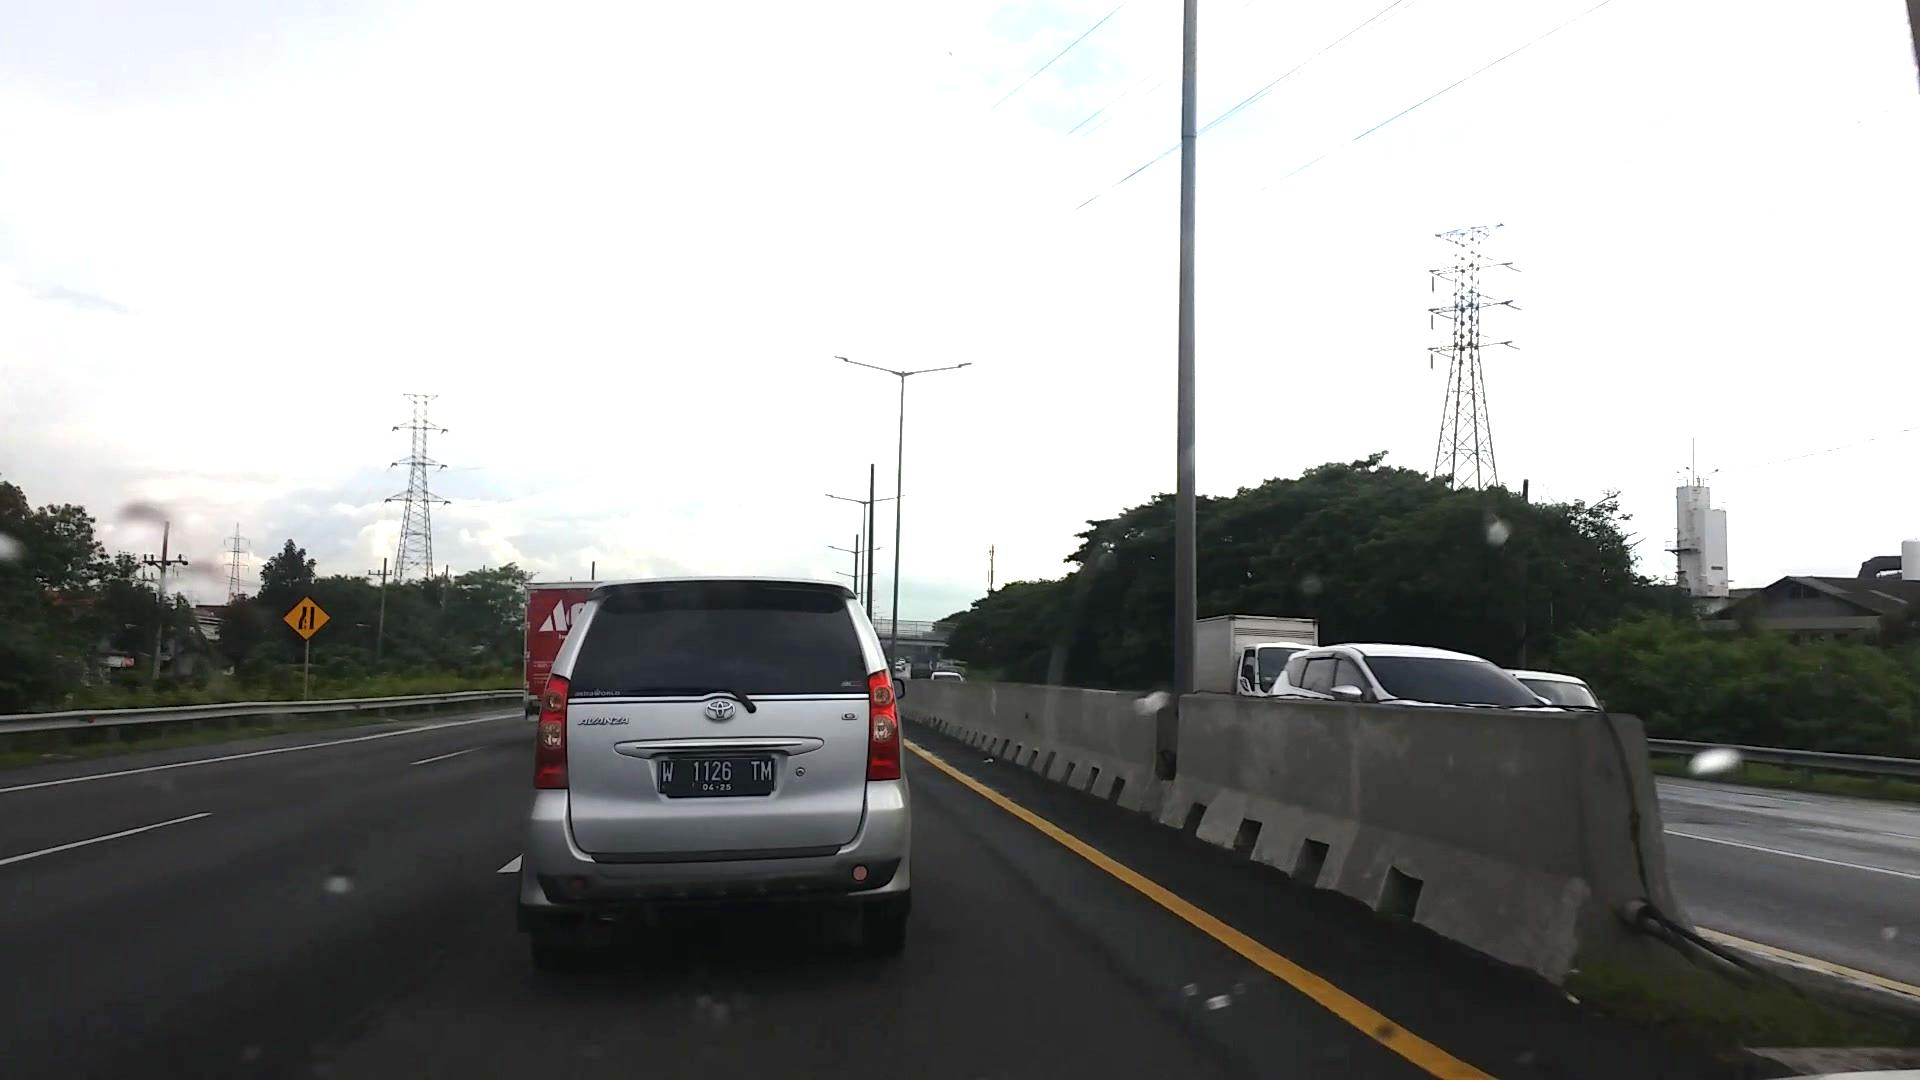plate_positive: (658, 757, 775, 798)
